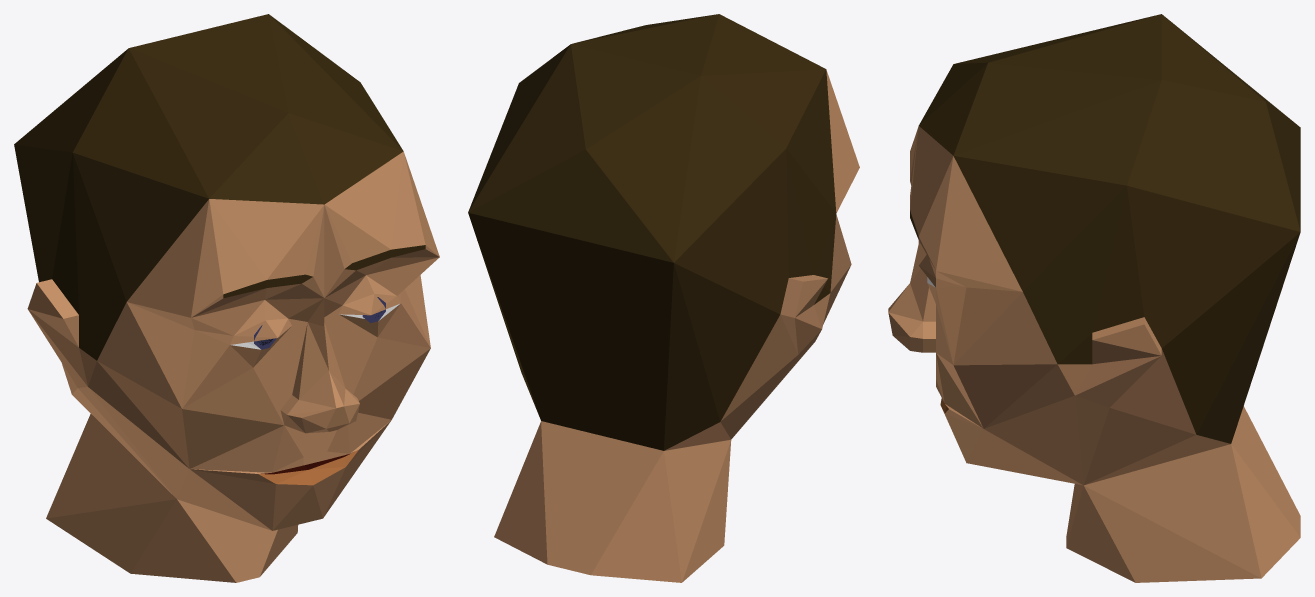
Rendered from model_114_idk_head.obj.
The picture shows the model from 3 angles, left to right: view 1: azimuth 30°, elevation 25°; view 2: azimuth 150°, elevation 25°; view 3: azimuth 270°, elevation 25°; orthographic projection. The views are drawn at different scales.
Visible parts, largest first — view 1: 114; view 2: 114; view 3: 114.
Boxes of the visible parts, bbox=[...] form: 114: bbox=[14, 14, 439, 582]; 114: bbox=[468, 14, 859, 582]; 114: bbox=[888, 14, 1300, 582].
Bounding box in the file's own units: 88 × 126 × 95.
